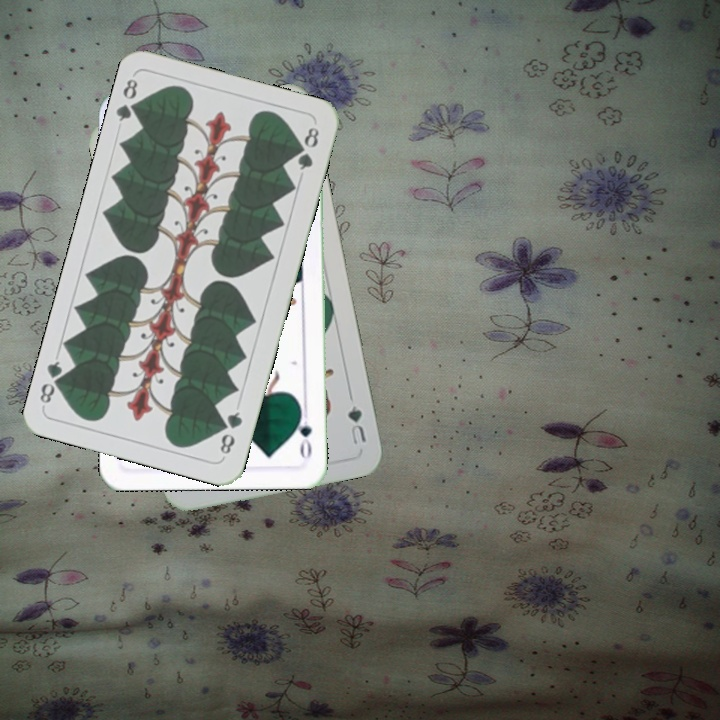G8: (112, 75, 145, 124), (216, 407, 245, 460)
GO: (292, 403, 315, 463)
GU: (343, 401, 369, 447)
